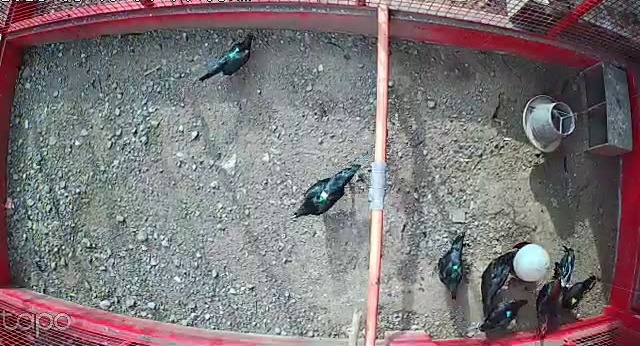Chicken: (291, 163, 361, 226), (192, 32, 263, 87), (474, 245, 520, 319), (436, 232, 472, 306), (477, 296, 529, 336), (560, 272, 598, 311)
Rooster: (530, 247, 579, 339)
Saddle_Color_Blue: (506, 311, 512, 317)
Saddle_Color_YellowGreen: (316, 189, 330, 202)
